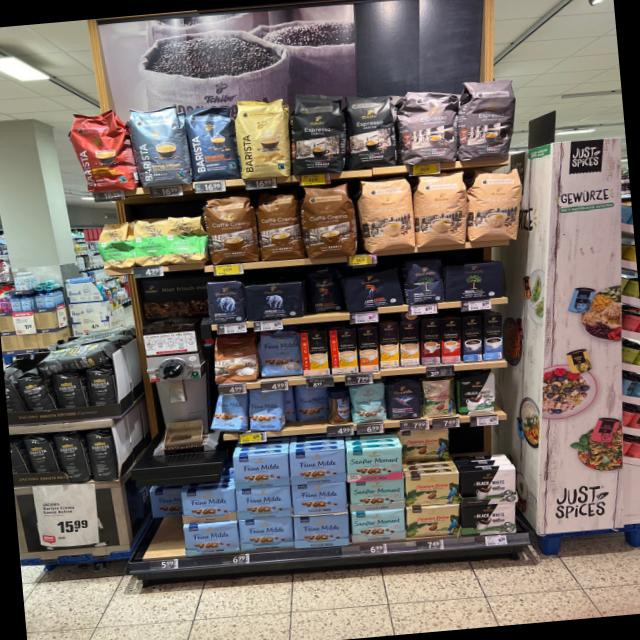AB Bohne: (203, 278, 244, 325)
AB Gemahlen: (242, 280, 304, 321)
Athiopien Bohne: (96, 220, 136, 272)
Athiopien Gemahlen: (162, 212, 206, 265), (132, 218, 168, 266)
BM Bohne: (402, 254, 446, 304)
BM Gemahlen: (442, 259, 504, 302)
BW Bohne: (454, 369, 499, 416)
BW Gemahlen: (460, 465, 518, 507), (459, 502, 516, 536)
Barista CB: (234, 96, 292, 180)
Barista CC: (127, 104, 192, 186)
Barista Espresso: (184, 100, 239, 182)
Barista Kolumbien: (62, 106, 136, 194)
C Fino Bohne: (385, 376, 423, 420)
CC Mild: (356, 176, 418, 253), (466, 168, 528, 244), (413, 172, 470, 248)
CC Vollmundig: (212, 333, 259, 384)
CC Vollmundig 36 Pads: (300, 180, 358, 260), (200, 193, 258, 265), (254, 192, 304, 260)
Colombia BB Bohne: (421, 376, 456, 418)
Colombia BB Gemahlen: (402, 468, 460, 508), (406, 502, 462, 540)
Espresso Aromatisch: (459, 74, 521, 162), (398, 85, 460, 164)
Espresso Kraftig: (286, 89, 348, 175), (344, 90, 399, 168)
FM 36 Pads: (256, 328, 301, 378)
FM Bohne: (246, 387, 283, 432), (294, 382, 330, 423)
FM Gemahlen: (288, 446, 347, 486), (234, 483, 293, 522), (180, 485, 237, 525), (182, 520, 240, 558), (292, 512, 350, 550), (232, 450, 290, 488), (290, 480, 347, 516), (238, 516, 294, 552)
FM Instant: (327, 387, 351, 425)
LG Bohne: (303, 266, 344, 316)
LG Gemahlen: (340, 270, 406, 312)
SM Bohne: (348, 382, 388, 424)
SM Gemahlen: (347, 442, 404, 483), (349, 506, 406, 544), (348, 476, 406, 512)
Simo CCMild: (299, 330, 330, 376), (328, 327, 358, 374)
Simo CCMild bigpack: (378, 320, 400, 368)
Simo CCVollmundig bigpack: (356, 326, 379, 372)
Simo Decaff: (397, 319, 419, 365)
Simo Es Brazil: (441, 317, 462, 363)
Simo Es Caramel: (421, 318, 441, 363)
Simo Es Kraft: (462, 315, 482, 362)
Simo Es Vanilla: (482, 313, 502, 360)
